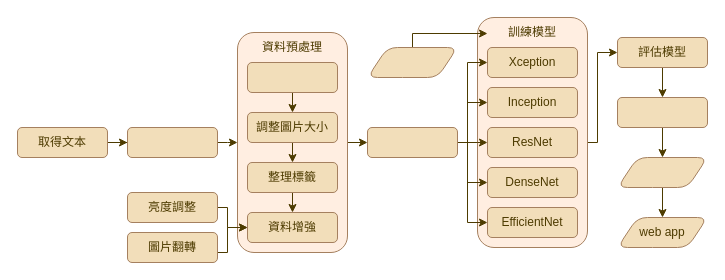
The diagram is 725 pixels wide and 280 high, and some of its shapes have lost their labels. The centre of each missing label's shape, as x and y in pixels:
"分割 圖片" goes at [292,77].
"分割資料集" goes at [412,142].
"匯出結果" goes at [662,172].
"處理資料集" goes at [172,142].
"預測" goes at [662,112].
"預訓練參數" goes at [412,62].
